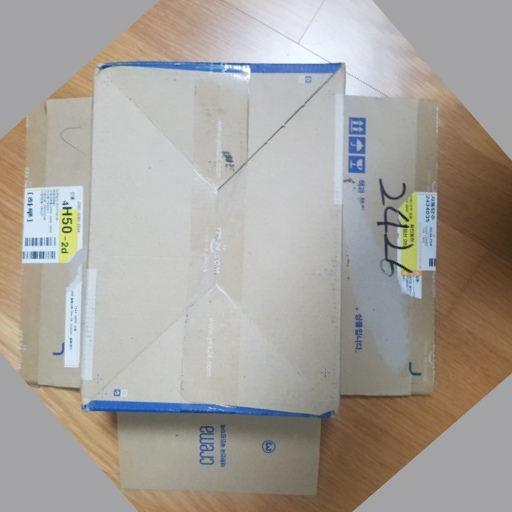Paper_0: (18, 58, 452, 499)
